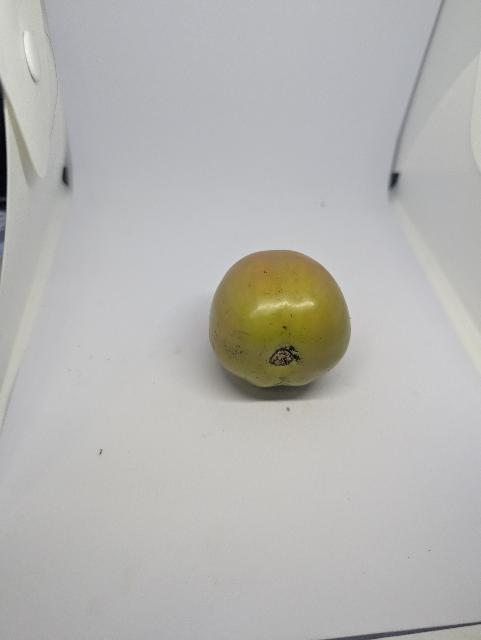breaker: (205, 247, 357, 394)
